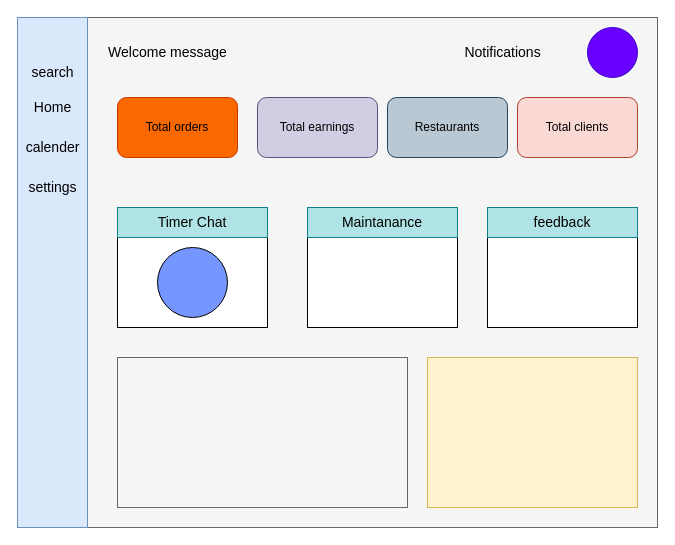
The diagram is 675 pixels wide and 545 high, and some of its shapes have lost their labels. Each missing label, with the box of its shape:
latest Updates: (426, 356, 638, 508)
popilar customer details: (116, 356, 408, 508)
profile: (586, 26, 638, 78)
